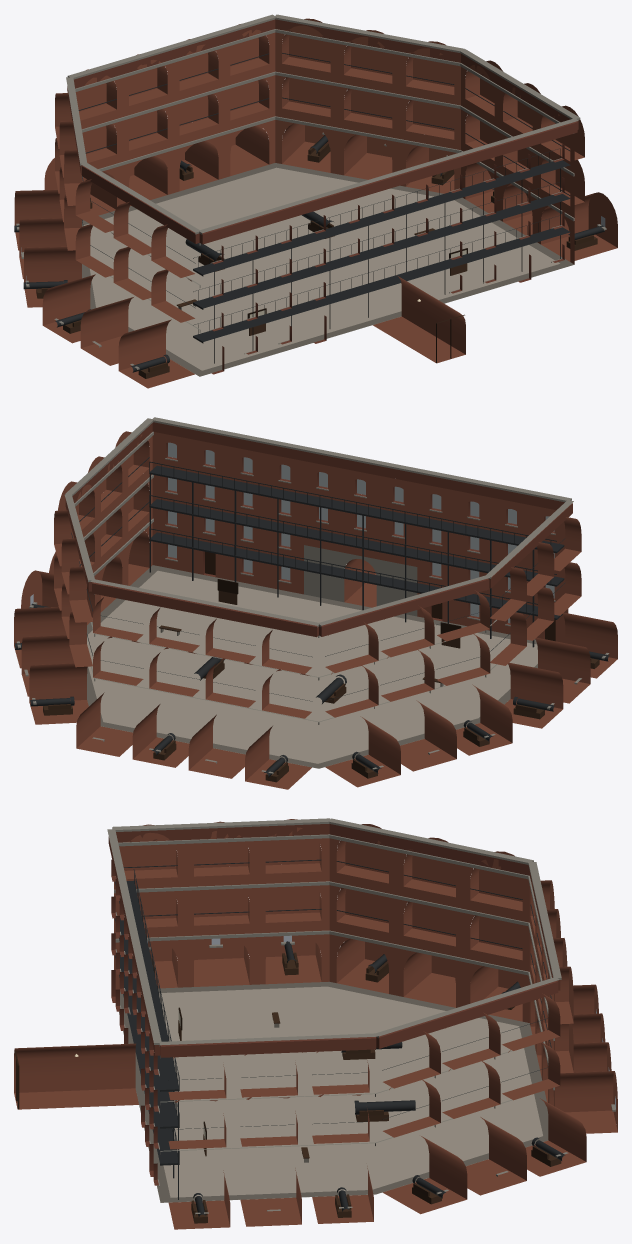
File: fortPoint_int.glb
3 renders of one model, top to bottom at view 1: azimuth 30°, elevation 25°; view 2: azimuth 150°, elevation 25°; view 3: azimuth 270°, elevation 25°, orthographic. The views are drawn at different scales.
Parts seen in each view (by area): view 1: I_brickred, I_concrete, I_x_marble_black, I_metal, I_x_veneer; view 2: I_brickred, I_concrete, I_metal, I_x_marble_black, I_glassI, I_x_veneer; view 3: I_brickred, I_concrete, I_x_marble_black, I_metal, I_x_veneer.
Part boxes in pixels (x1,y1,x2,y2): I_brickred: (14, 18, 617, 388); I_concrete: (83, 167, 559, 376); I_x_marble_black: (16, 14, 606, 376); I_metal: (14, 53, 604, 372); I_x_veneer: (36, 141, 597, 378); I_brickred: (14, 422, 617, 789); I_concrete: (87, 570, 537, 768); I_metal: (14, 457, 609, 777); I_x_marble_black: (16, 417, 609, 774); I_glassI: (168, 442, 554, 623); I_x_veneer: (43, 551, 599, 782); I_brickred: (14, 819, 617, 1229); I_concrete: (159, 986, 542, 1202); I_x_marble_black: (107, 818, 615, 1215); I_metal: (114, 859, 565, 1217); I_x_veneer: (14, 952, 561, 1223).
Size of the model in its own units: 52.71 by 14.38 by 49.
